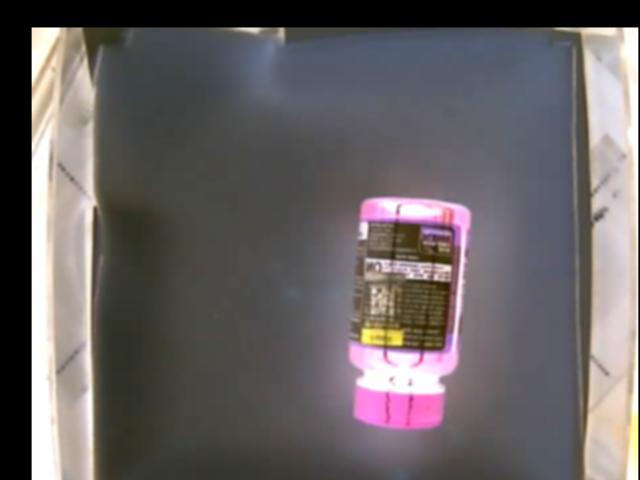Bottle: (351, 195, 473, 427)
